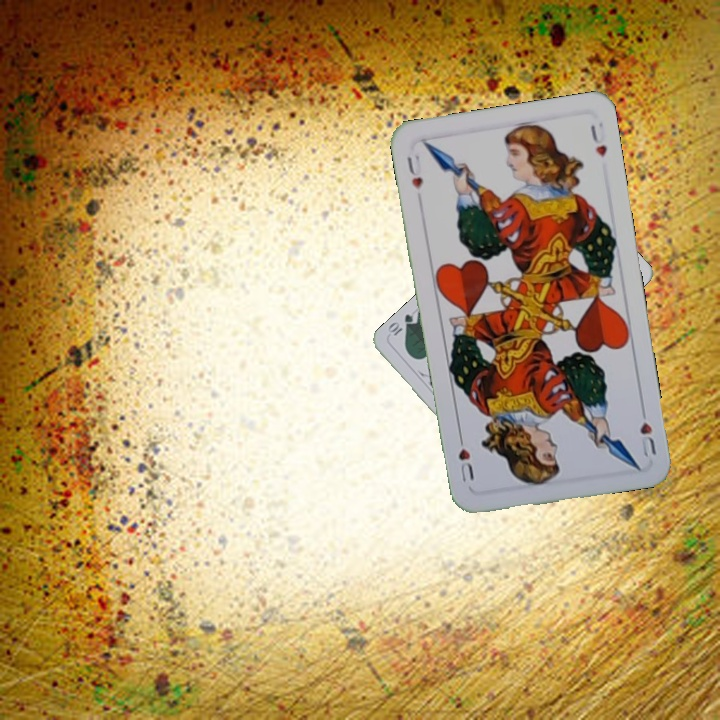HU: (636, 402, 659, 460), (403, 150, 425, 192)
